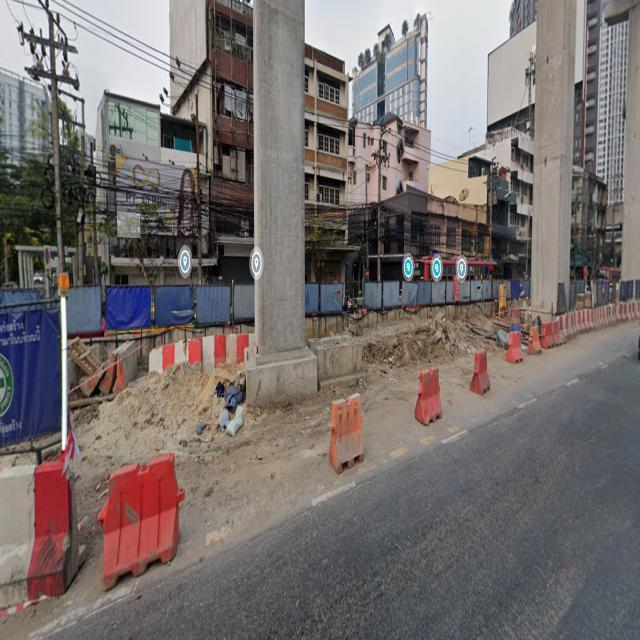fallen_object: (77, 452, 198, 585), (0, 449, 82, 601), (140, 336, 297, 394), (292, 390, 374, 474), (397, 346, 454, 432), (526, 305, 640, 338), (455, 345, 508, 401), (496, 317, 548, 364)
